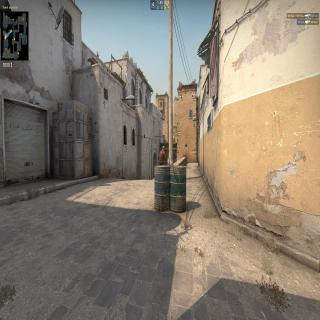T-Head: (162, 144, 166, 152)
